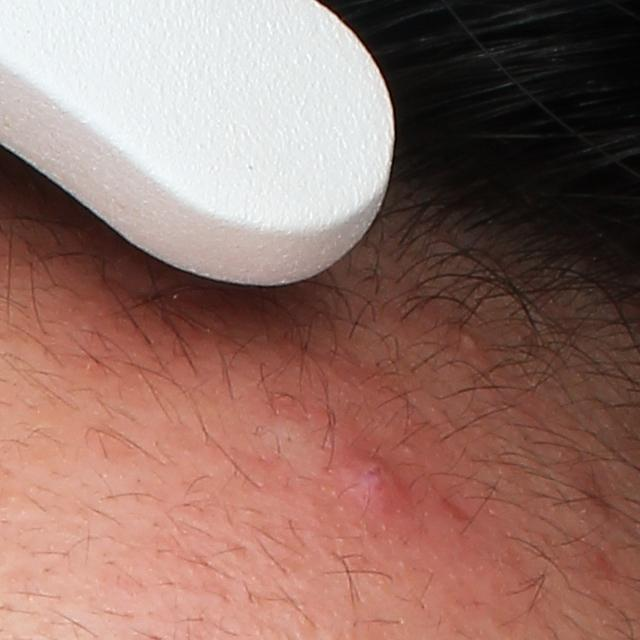papule: (340, 445, 413, 523)
